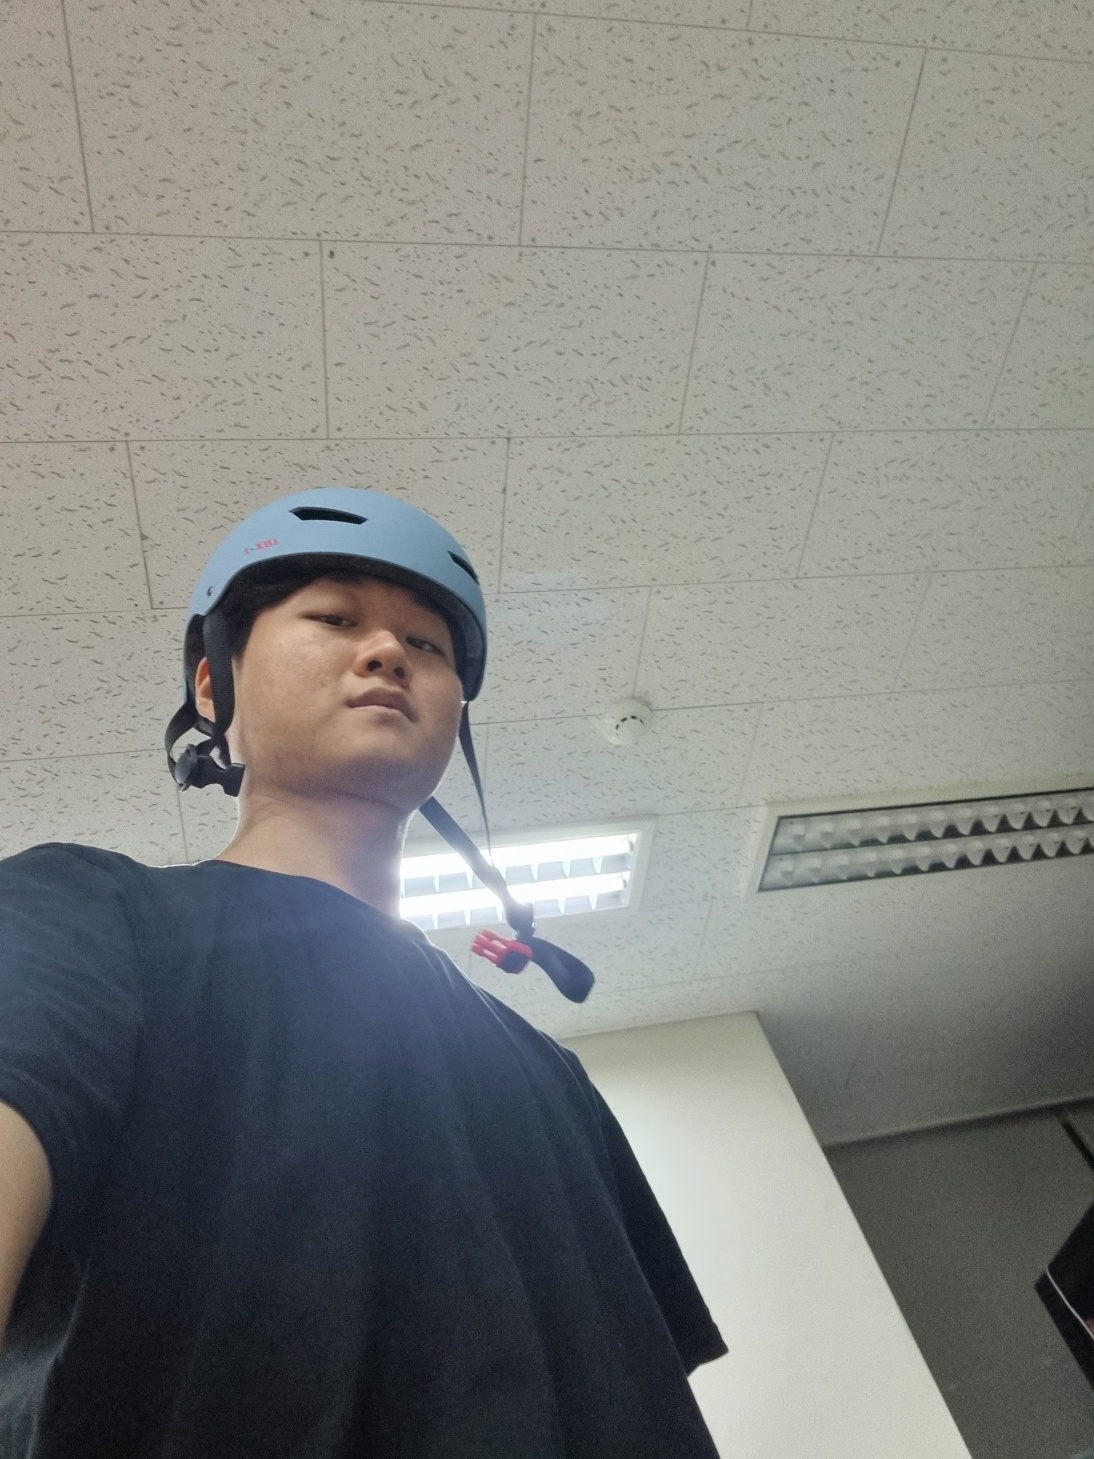Helmet: (116, 449, 522, 879)
